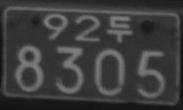0: (94, 47, 126, 97)
2: (74, 13, 99, 42)
3: (54, 46, 83, 95)
5: (136, 49, 166, 99)
8: (14, 43, 44, 93)
9: (43, 12, 69, 41)
두: (106, 14, 133, 44)
